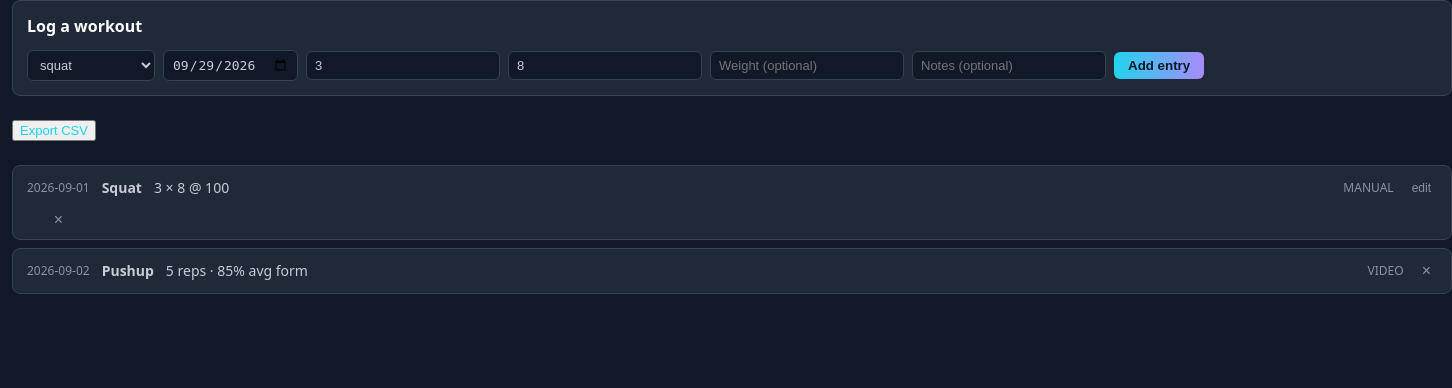
Test: HistoryView › shows an error and keeps the row when deleting an entry fails
expect the text "3 × 8 @ 100" is shown: met, box [154,178,229,197]
Step 1. Click the button named "Delete entry from 2026-09-01" → click(58, 220), box [27,211,90,229]
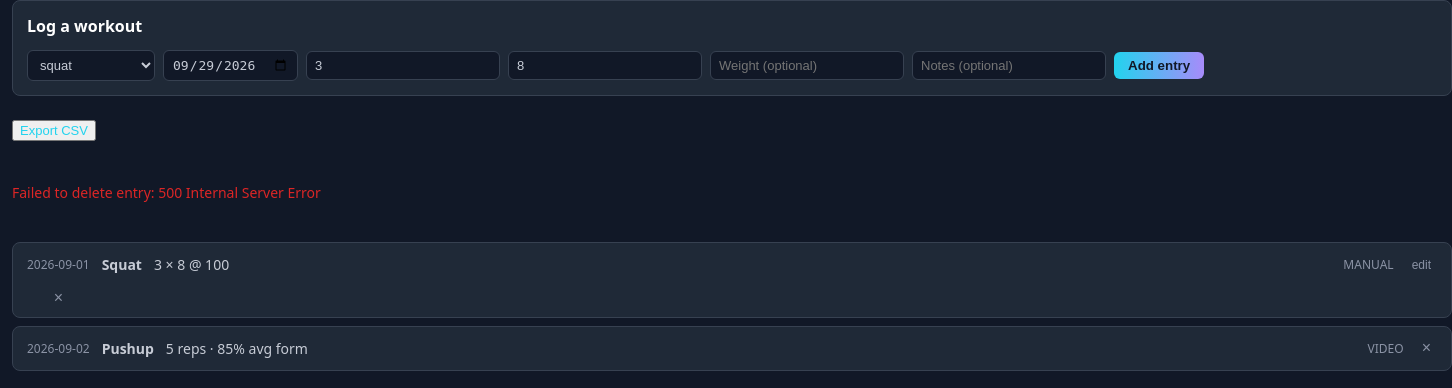
expect the text "3 × 8 @ 100" is shown: met, box [154,255,229,274]
expect the text "Failed to delete entry: 500 Internal Server Error" is shown: met, box [12,183,321,202]
